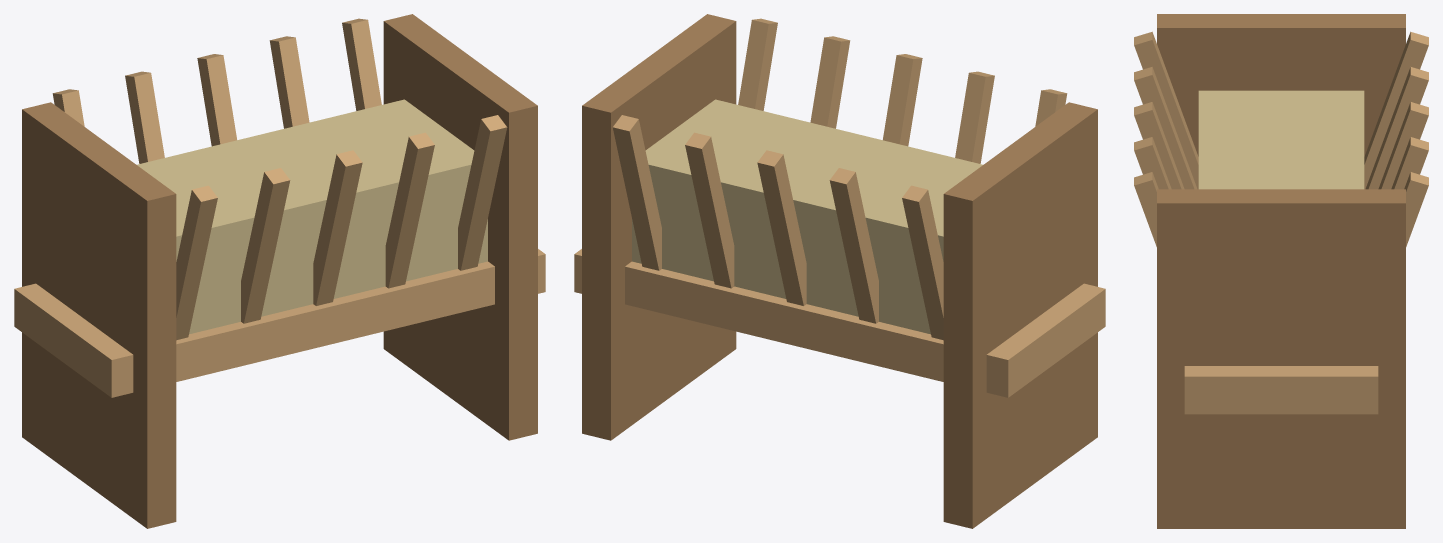
File: hay-rack.glb
3 renders of one model, left to right at view 1: azimuth 30°, elevation 25°; view 2: azimuth 150°, elevation 25°; view 3: azimuth 270°, elevation 25°, orthographic.
Parts seen in each view (by area): view 1: hay-rack; view 2: hay-rack; view 3: hay-rack.
Boxes of the visible parts, x1,y1,x2,y2 form: hay-rack: (14, 14, 545, 528); hay-rack: (574, 14, 1105, 528); hay-rack: (1134, 14, 1428, 528).
Size of the model in its own units: 1.8 by 1.31 by 1.07.
